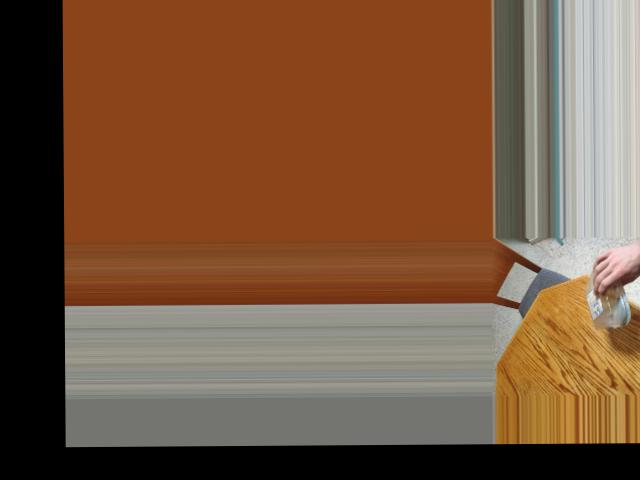cheese: (583, 253, 636, 316)
